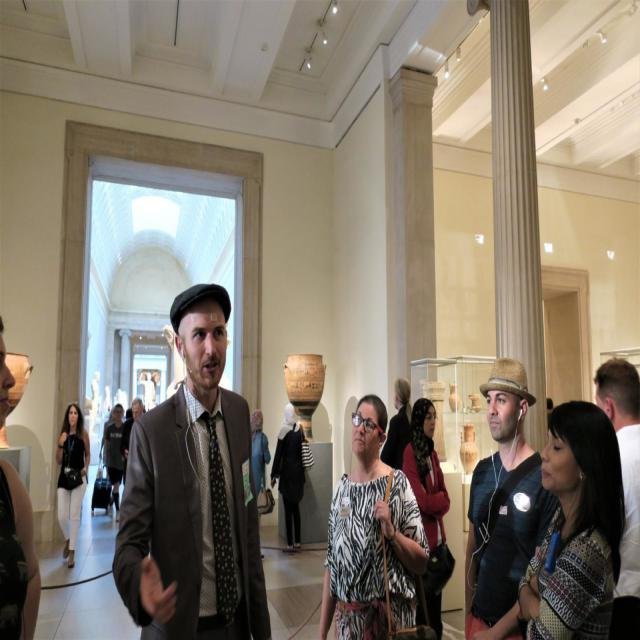body: (111, 282, 272, 640), (311, 391, 434, 639), (464, 354, 560, 640), (516, 399, 628, 640), (0, 309, 44, 640), (591, 357, 640, 640), (402, 395, 452, 640), (270, 401, 315, 556), (53, 401, 92, 570), (380, 376, 414, 470), (103, 401, 126, 524), (249, 407, 272, 516), (120, 396, 144, 489), (98, 406, 115, 481), (138, 369, 157, 412), (89, 366, 100, 426)
